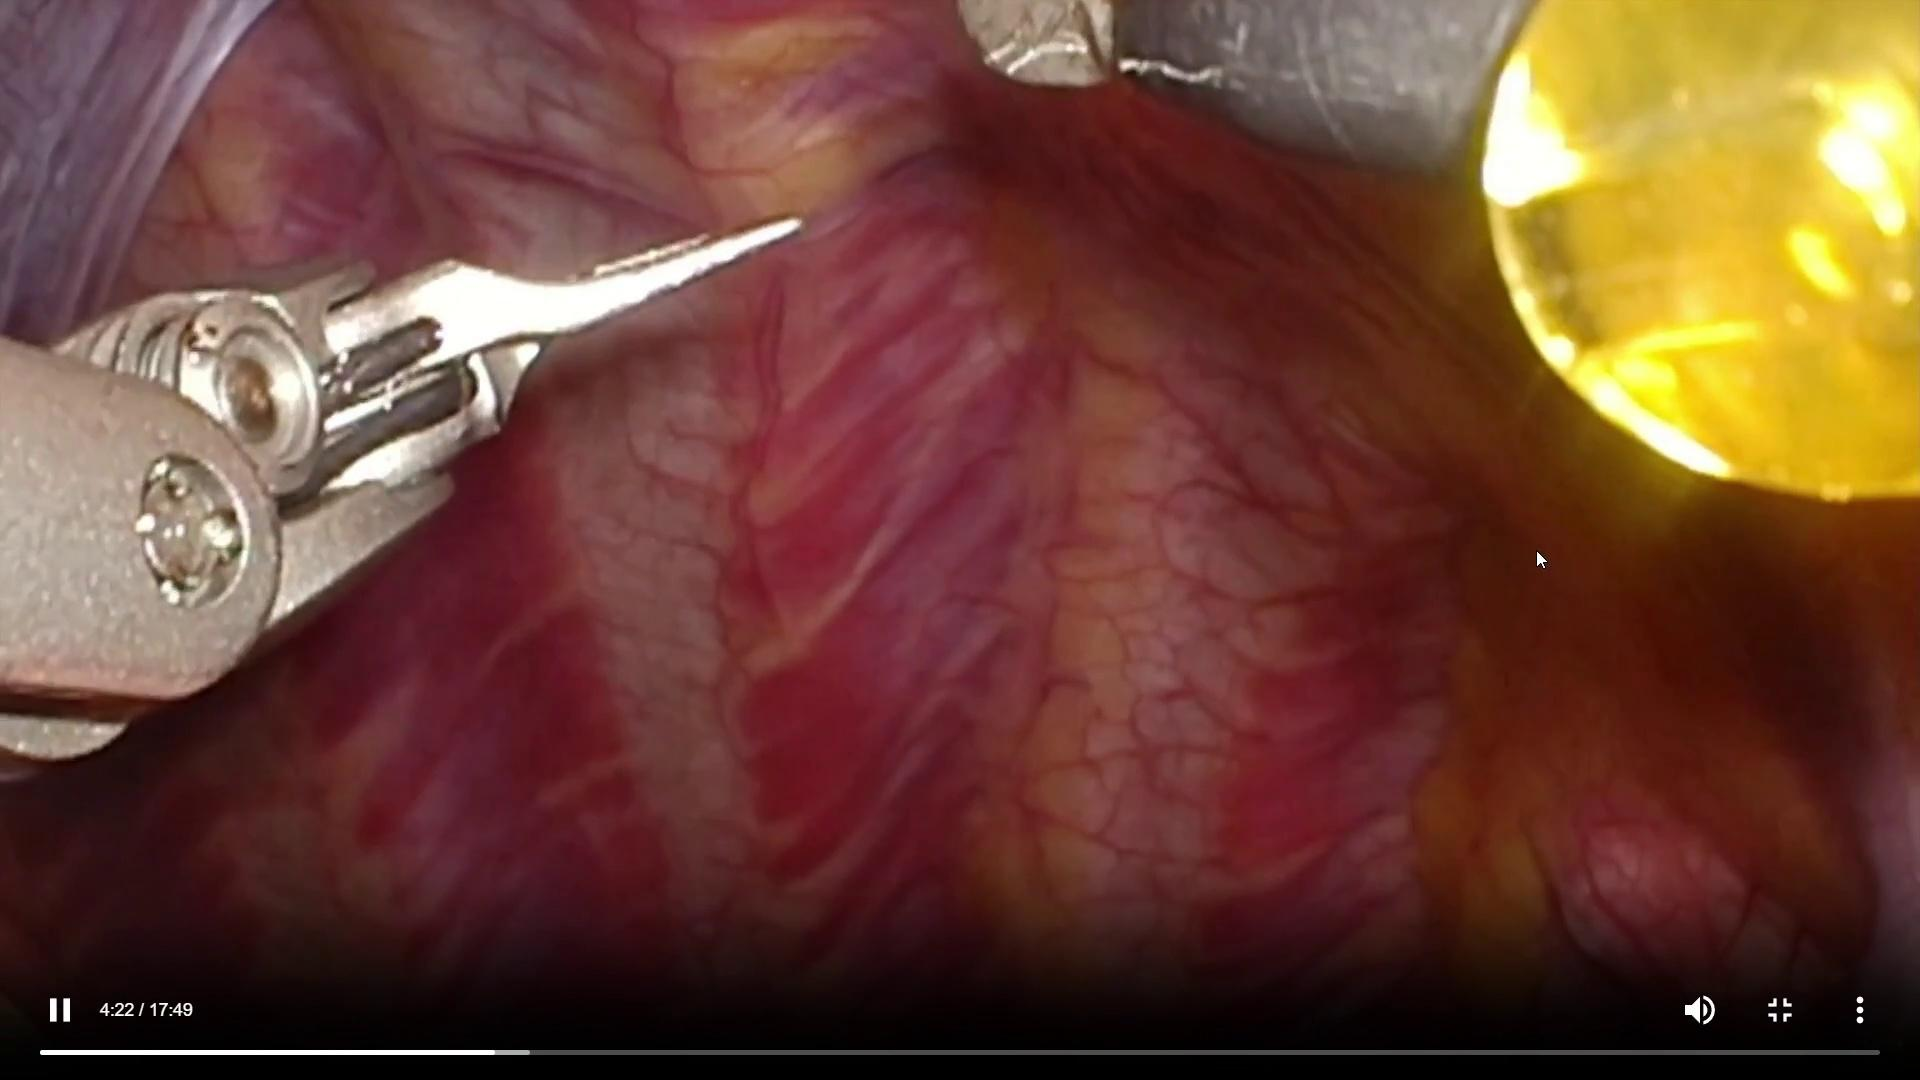Cautery_Spatula: (952, 0, 1538, 191)
Debakey: (284, 207, 812, 501), (298, 214, 811, 497)
